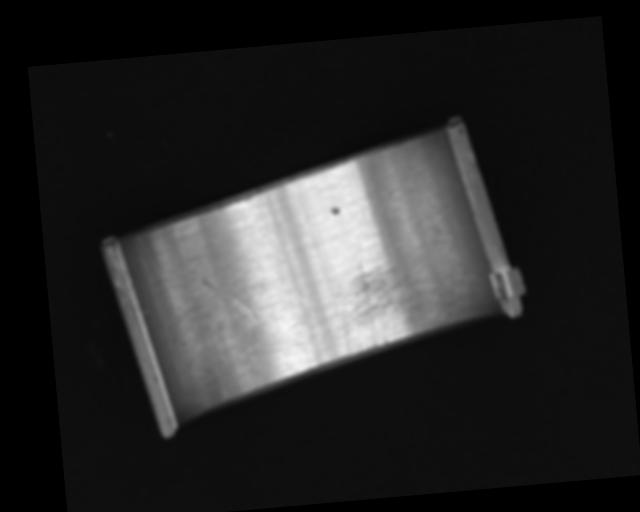bruise: (328, 206, 340, 216)
nick: (258, 187, 312, 312), (137, 228, 188, 323), (202, 274, 255, 324), (246, 316, 263, 375)
scratch: (327, 254, 456, 355)
